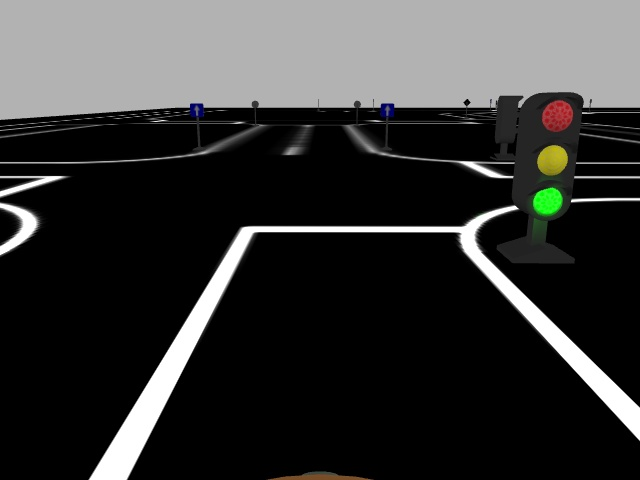green_light: (509, 90, 585, 222)
oneway: (379, 102, 395, 118), (188, 103, 205, 118)
